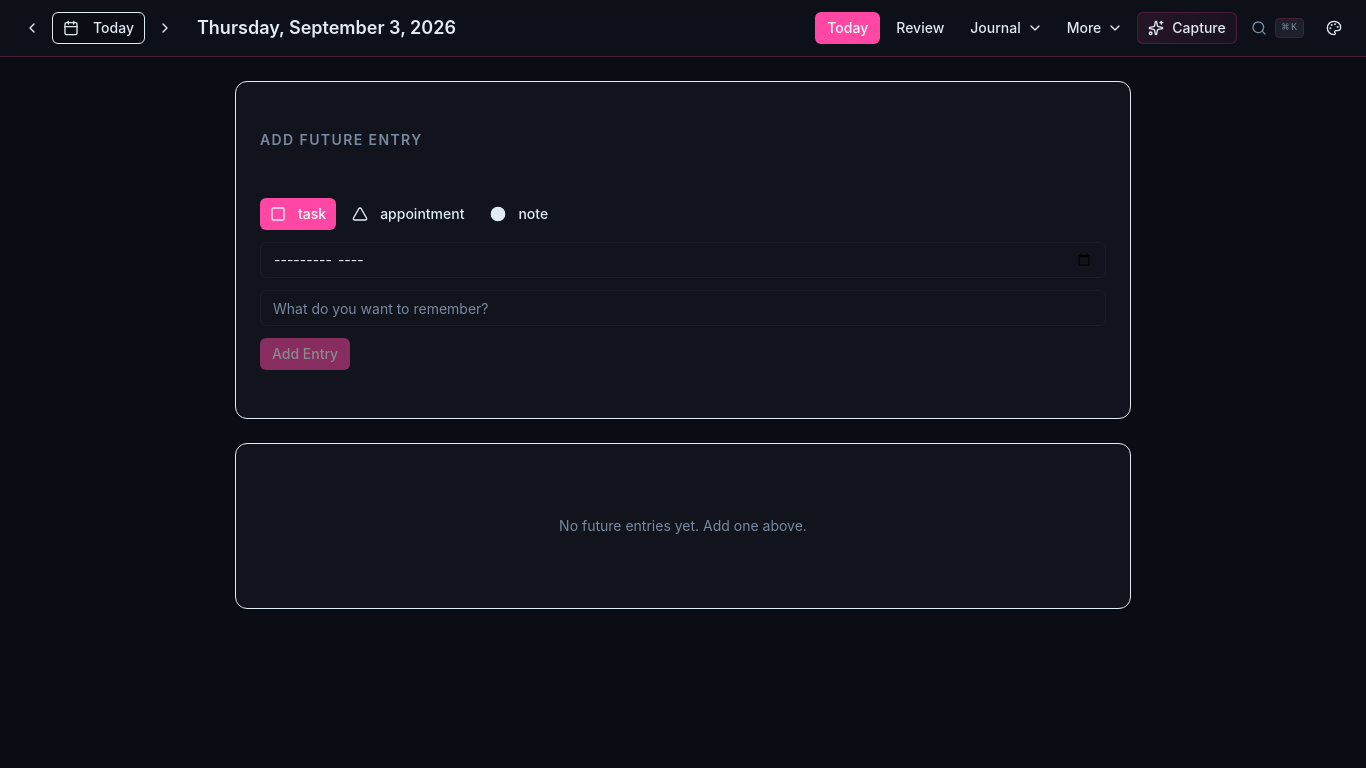
Test: mutation failure recovery › keeps the future entry draft when creation fails
Type "2026-10" into the field with placeholder "Target month" at [683, 260], box [260,242,1106,278]
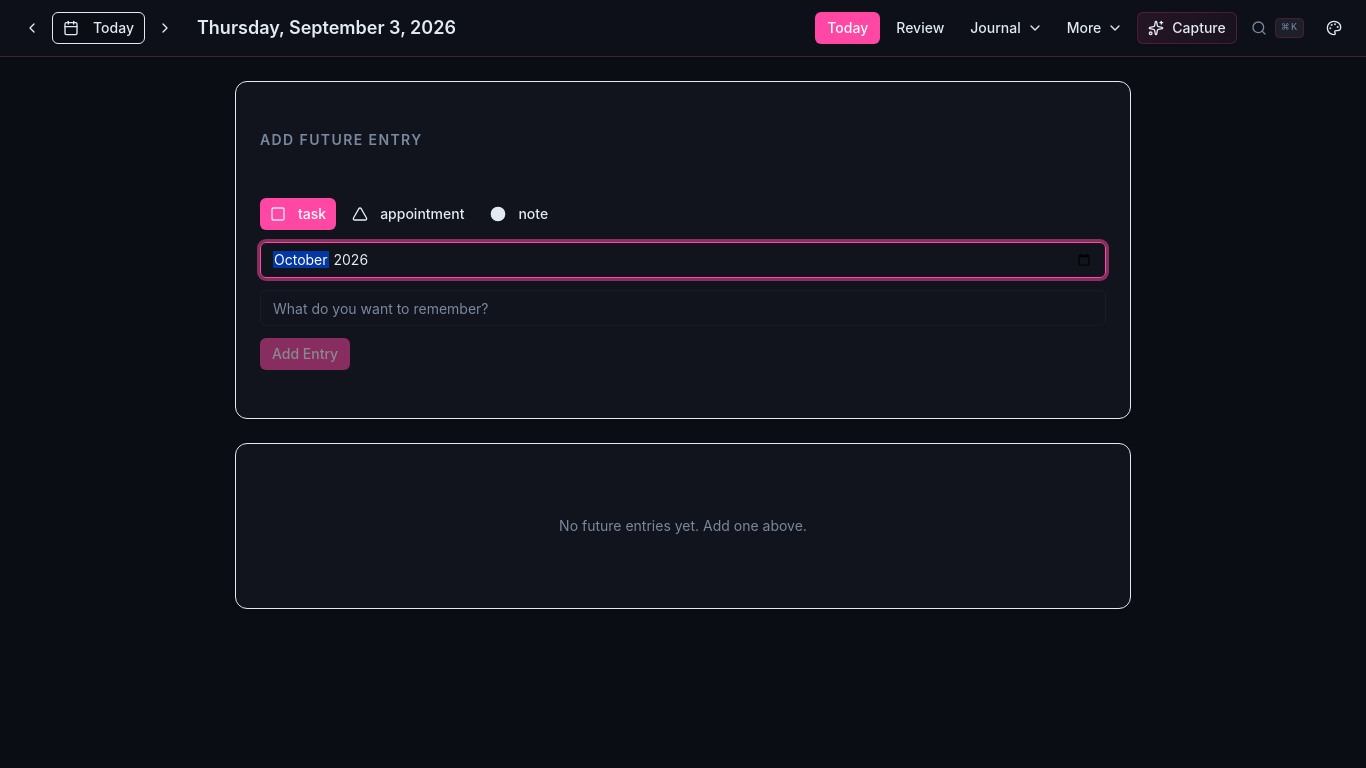
Type "Renew passport" into the field with placeholder "What do you want to remember?" at [683, 308], box [260,290,1106,326]
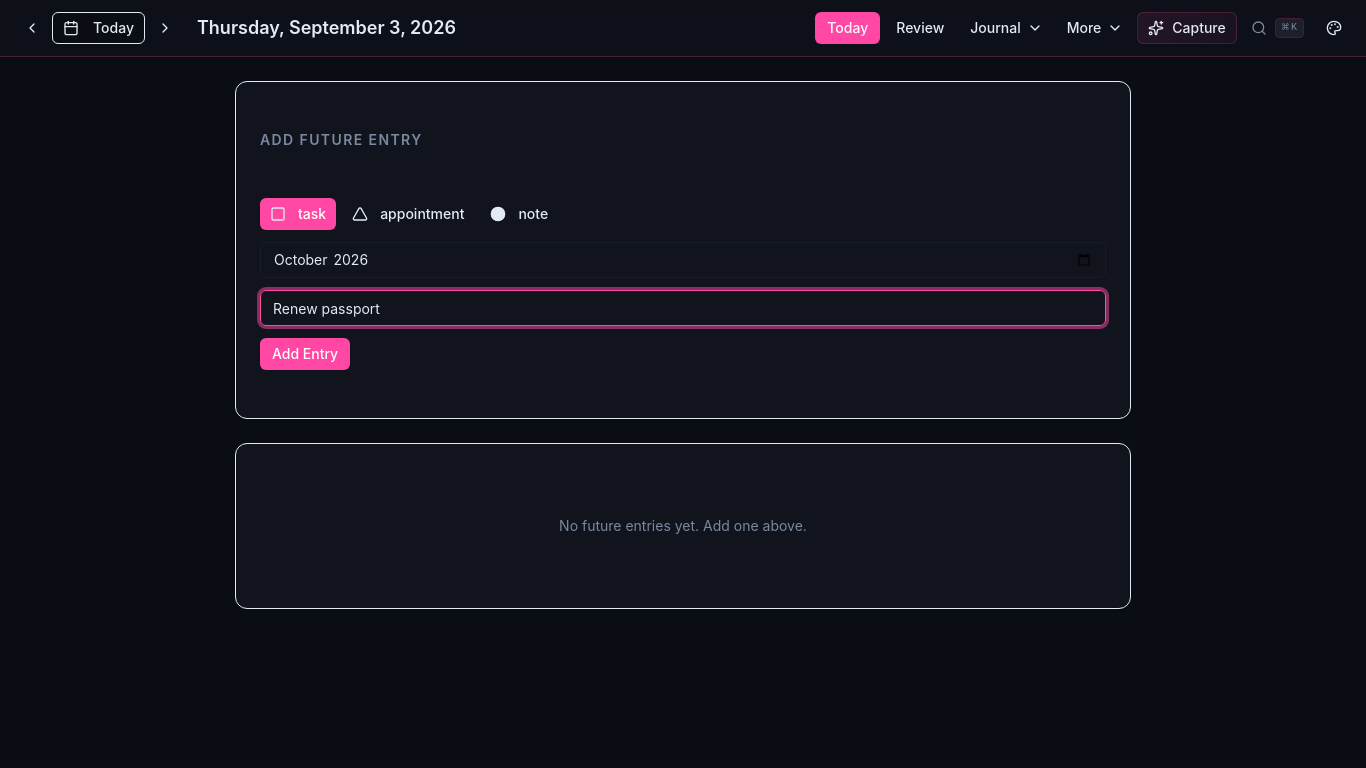
Click the button "Add Entry" at [305, 354], box [260,338,350,370]
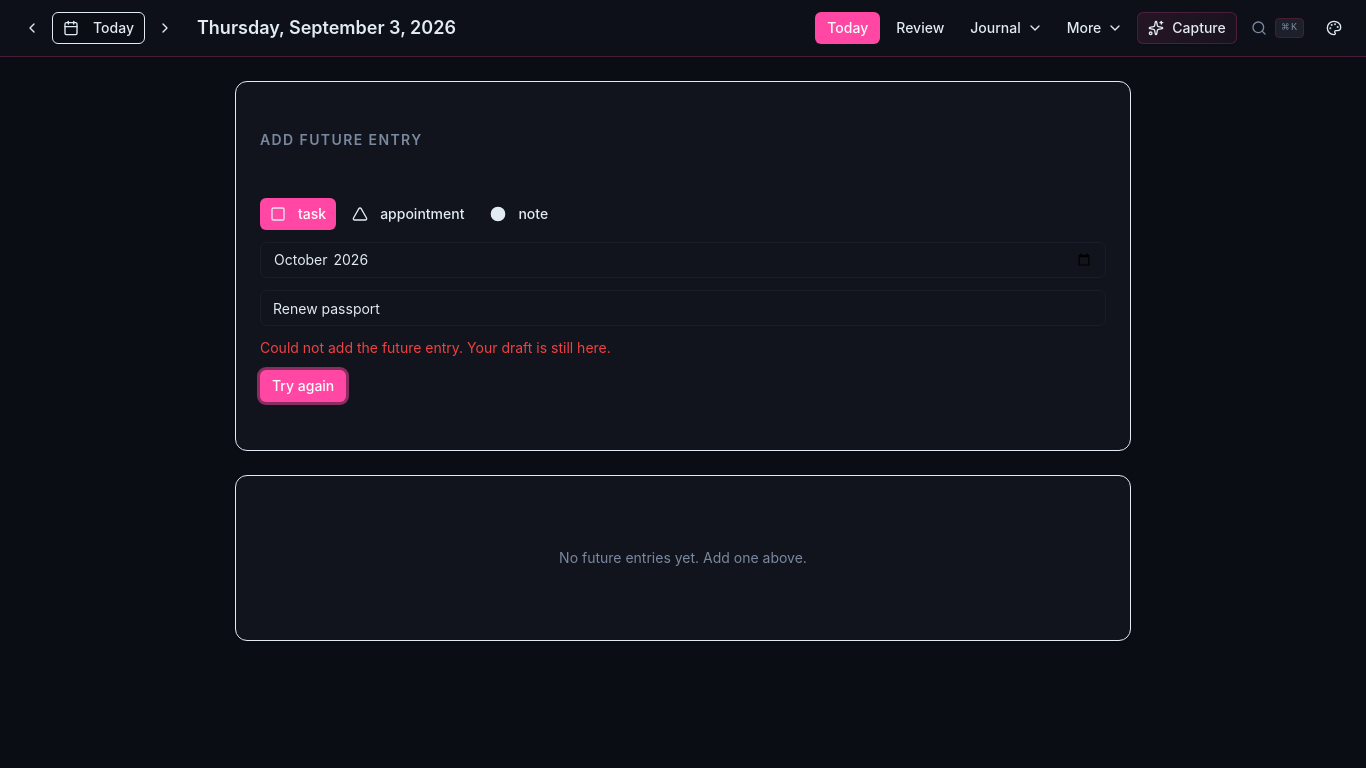
Expected: the message shows "Could not add", [260,339,611,356]
Expected: the button "Try again" is shown, [260,370,346,402]
